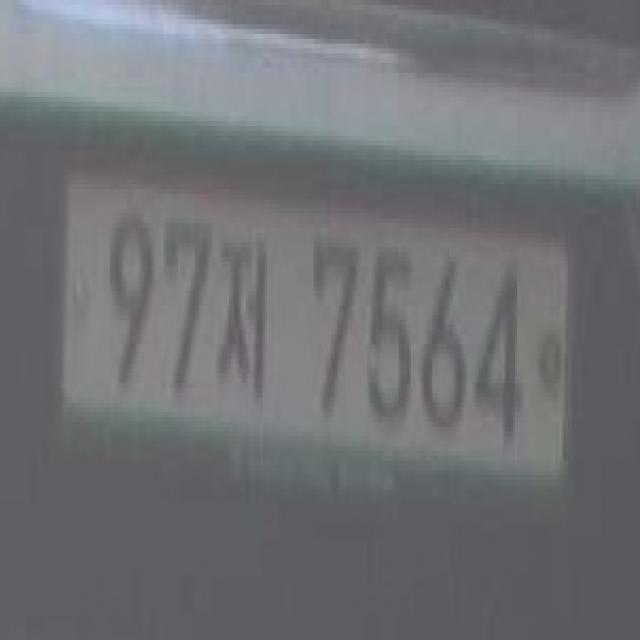4: (475, 236, 529, 456)
5: (371, 232, 417, 434)
6: (422, 233, 468, 441)
7: (308, 218, 358, 426), (162, 208, 210, 398)
9: (102, 196, 154, 392)
jeo: (219, 221, 278, 412)
license_plate: (57, 156, 574, 495)
